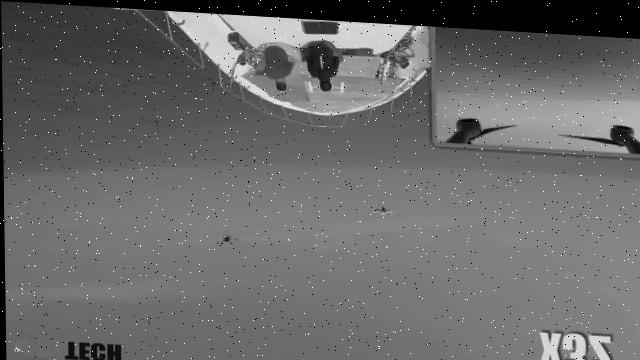drone: (366, 193, 400, 217), (208, 224, 243, 247)
